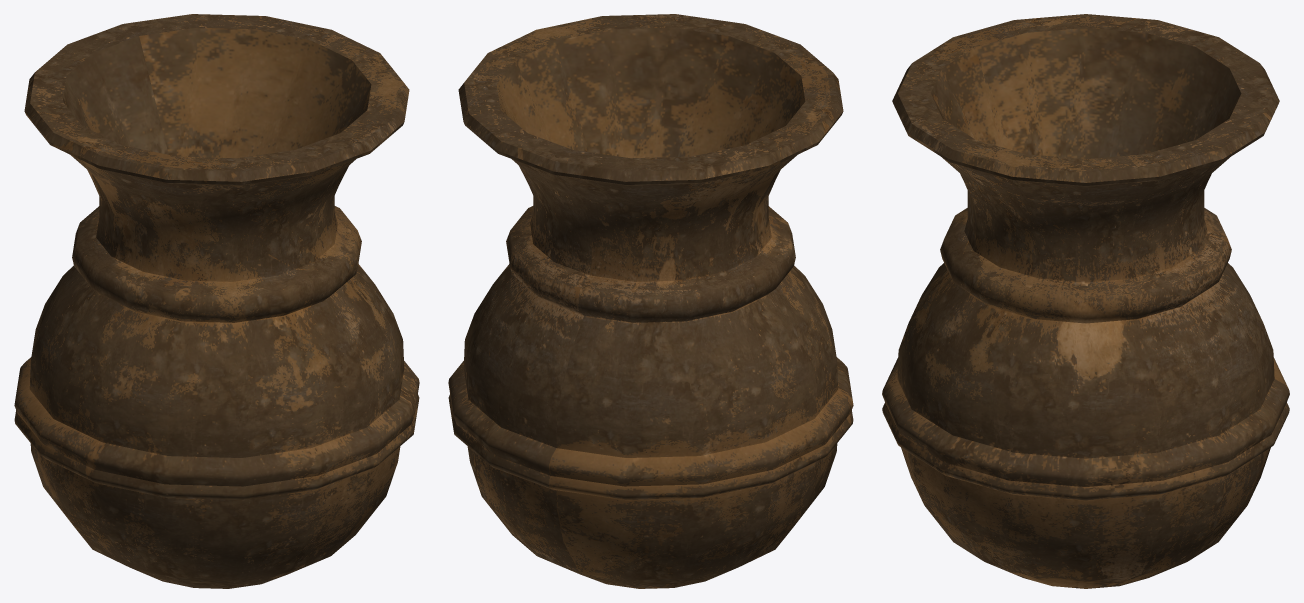
File: old_spittoon.glb
3 renders of one model, left to right at view 1: azimuth 30°, elevation 25°; view 2: azimuth 150°, elevation 25°; view 3: azimuth 270°, elevation 25°, orthographic.
Visible parts, largest first — view 1: Object_2; view 2: Object_2; view 3: Object_2.
Part boxes in pixels (<box>): Object_2: <box>14,14,419,588</box>; Object_2: <box>448,14,853,588</box>; Object_2: <box>882,14,1289,588</box>.
Size of the model in its own units: 0.2985 by 0.3697 by 0.2985.
Materials: 1 (1 with a texture image).
